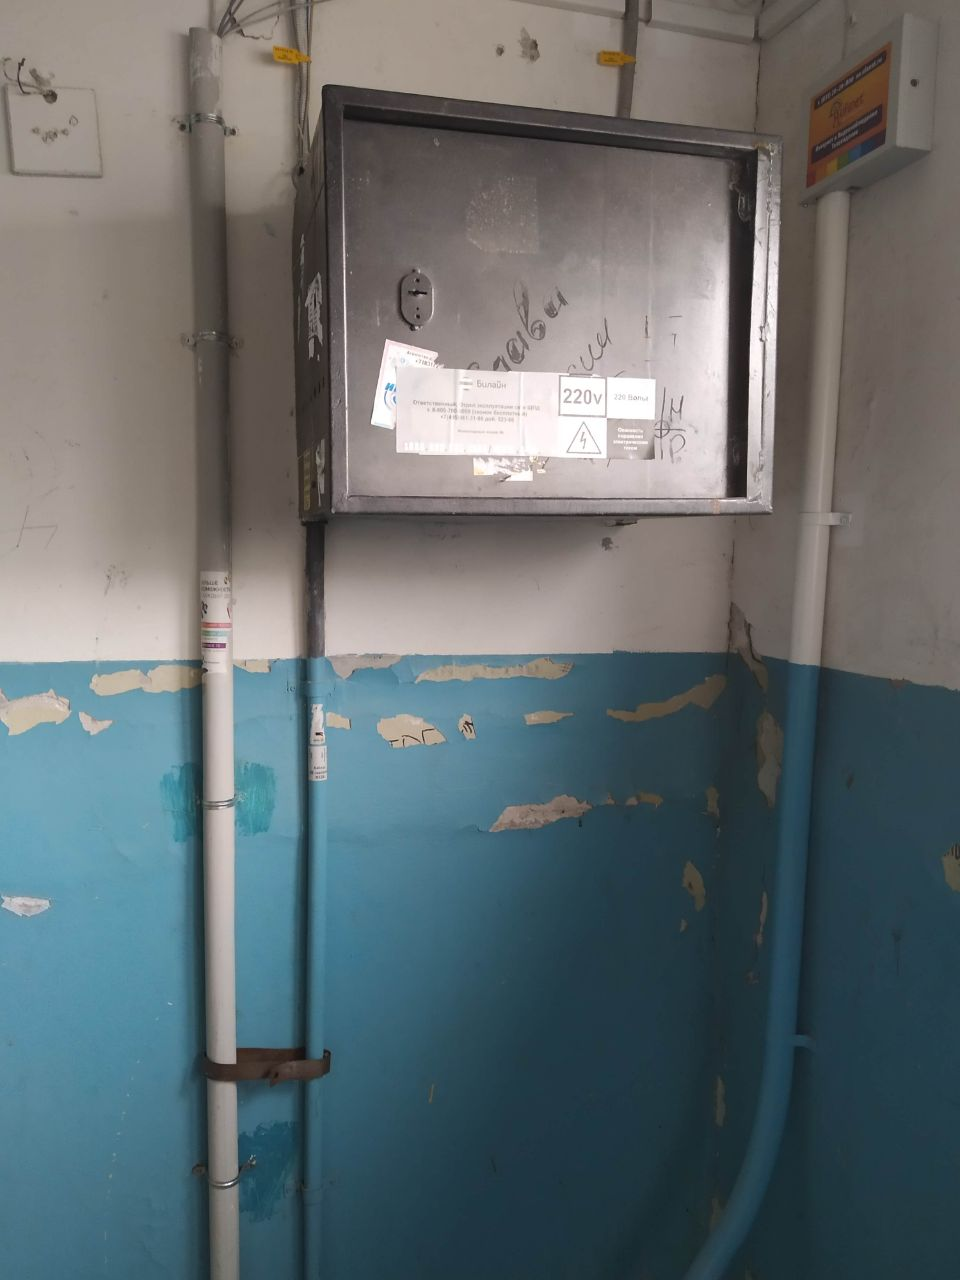shta-9m: (280, 73, 791, 541)
